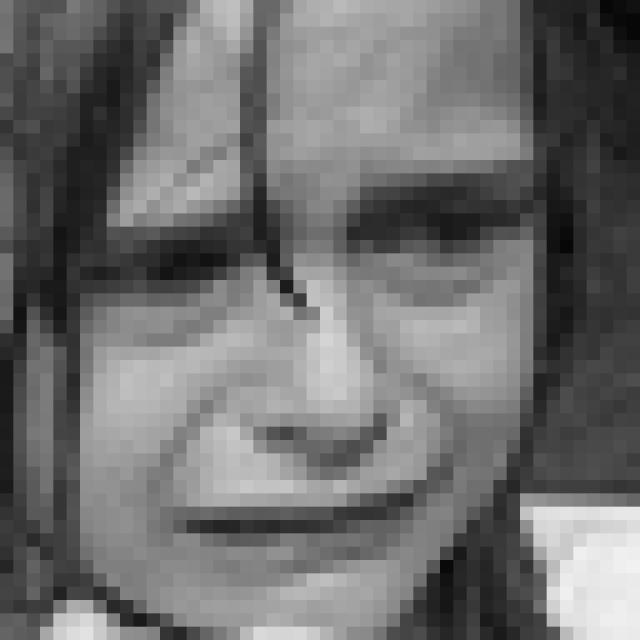fear: (80, 155, 540, 591)
